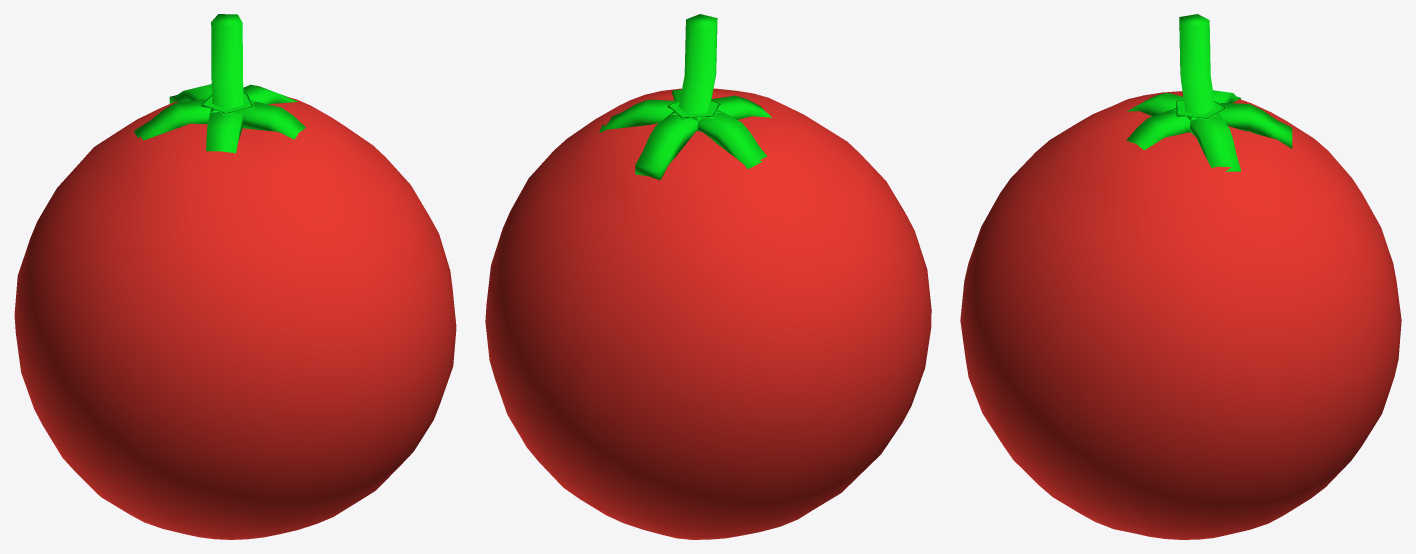
Rendered from tomato.dae.
3 views of the same model, side by side, from view 1: azimuth 30°, elevation 25°; view 2: azimuth 150°, elevation 25°; view 3: azimuth 270°, elevation 25° (orthographic).
Visible parts, largest first — view 1: Sphere, Cylinder.001; view 2: Sphere, Cylinder.001; view 3: Sphere, Cylinder.001.
Part boxes in pixels (x1,y1,x2,y2): Sphere: (14,97,456,539); Cylinder.001: (134,14,305,153); Sphere: (485,88,931,539); Cylinder.001: (599,14,771,180); Sphere: (960,91,1401,539); Cylinder.001: (1126,14,1292,171).
Size of the model in its own units: 0.2092 by 0.2074 by 0.2582.
